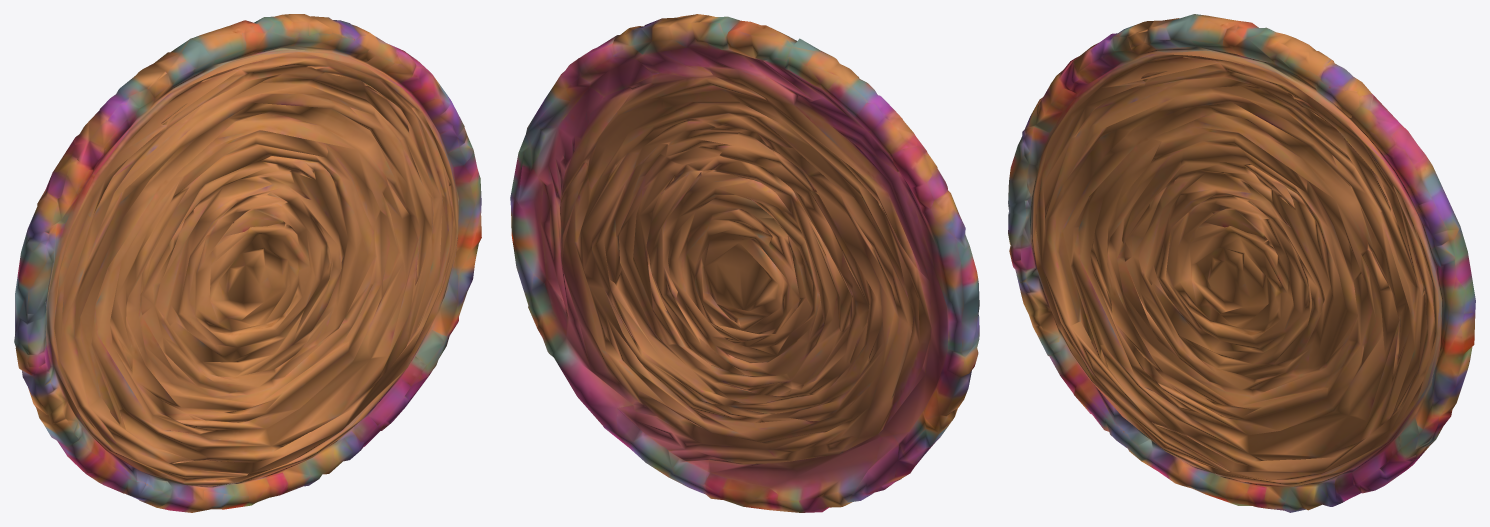
3 renders of one model, left to right at view 1: azimuth 30°, elevation 25°; view 2: azimuth 150°, elevation 25°; view 3: azimuth 330°, elevation 25°, orthographic.
Parts seen in each view (by area): view 1: material; view 2: material; view 3: material.
Part boxes in pixels (x1,y1,x2,y2): material: (14, 14, 481, 512); material: (510, 14, 979, 512); material: (1008, 14, 1475, 512).
Size of the model in its own units: 1 by 0.9962 by 0.0746.
Materials: 1 (1 with a texture image).
